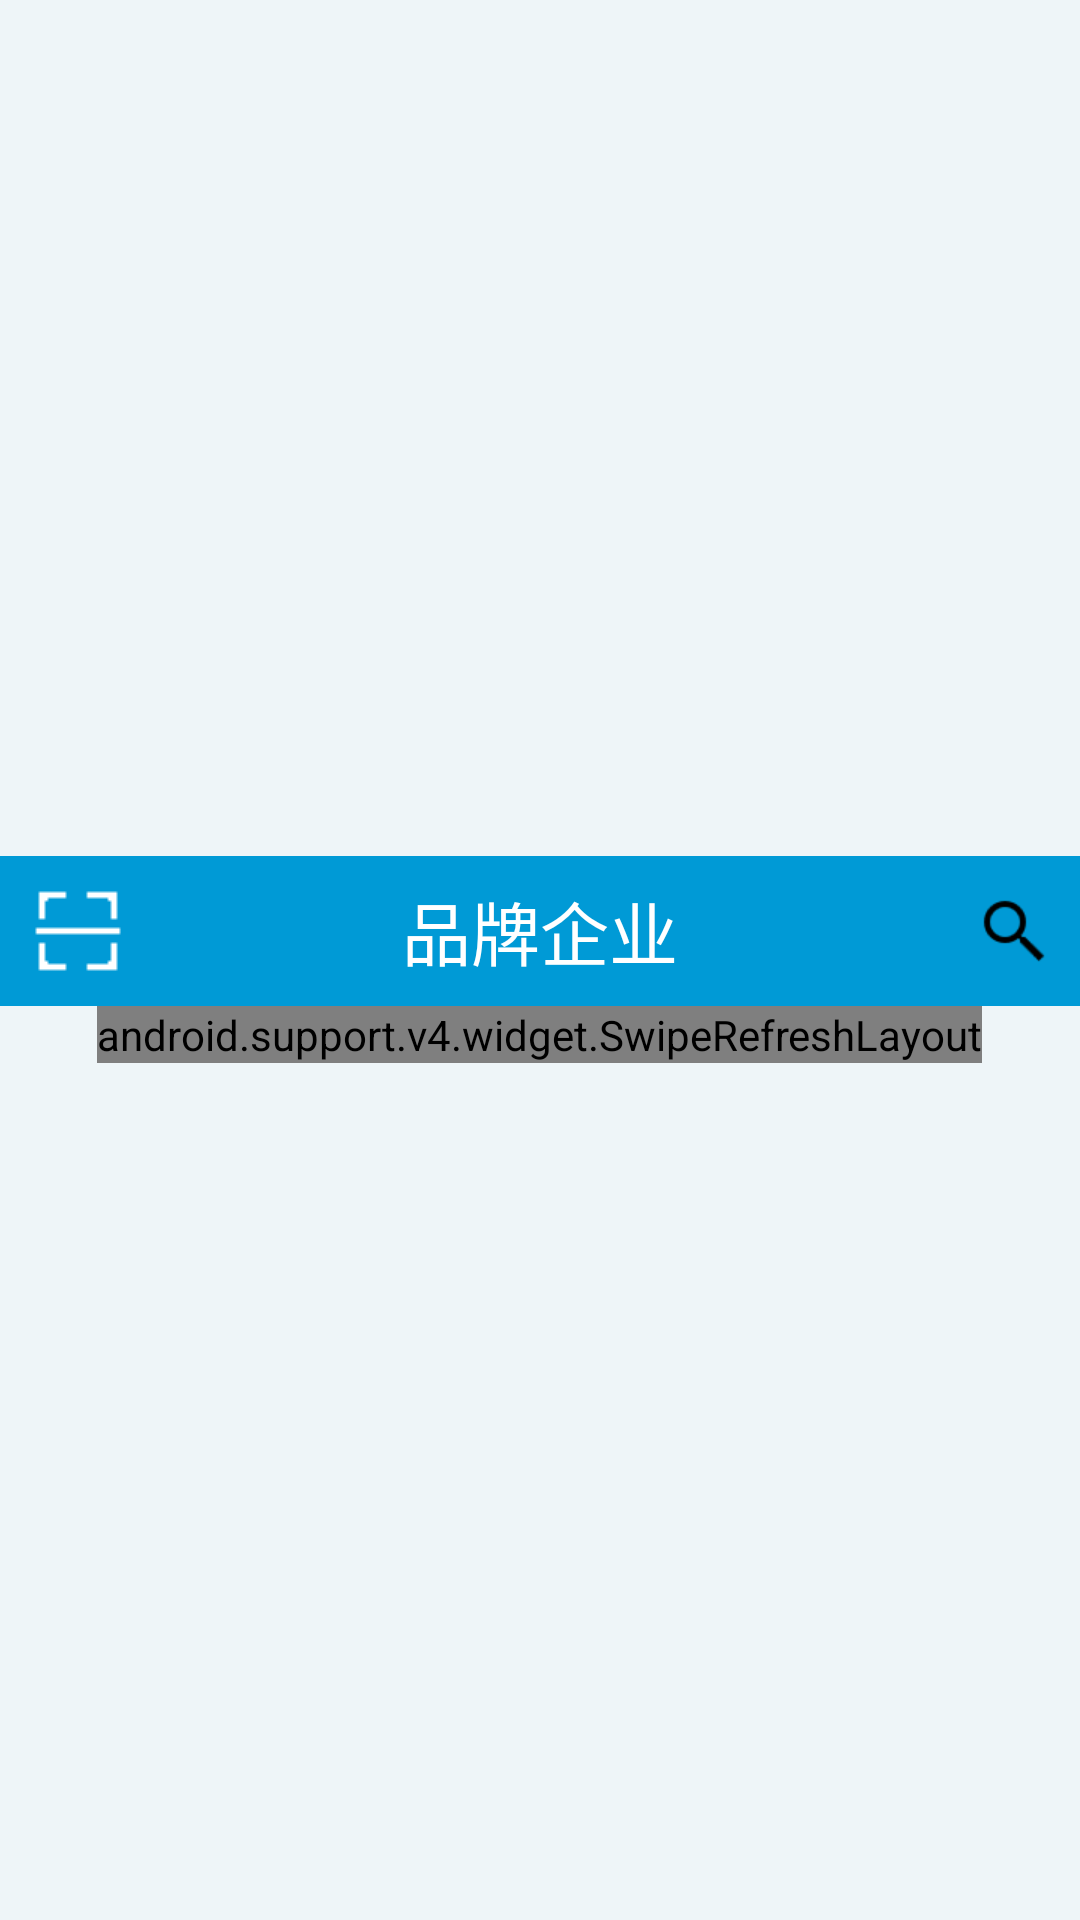

Icon bounding boxes for this 1080px x 1920px phone screenshot, format BBox(x1, y1, x2, y2):
scan: BBox(35, 891, 121, 971)
search: BBox(983, 900, 1044, 961)
